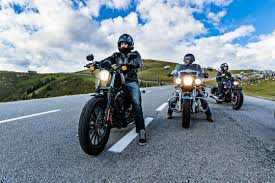motorcycle: (77, 56, 140, 153), (162, 64, 209, 128), (219, 76, 246, 110)
